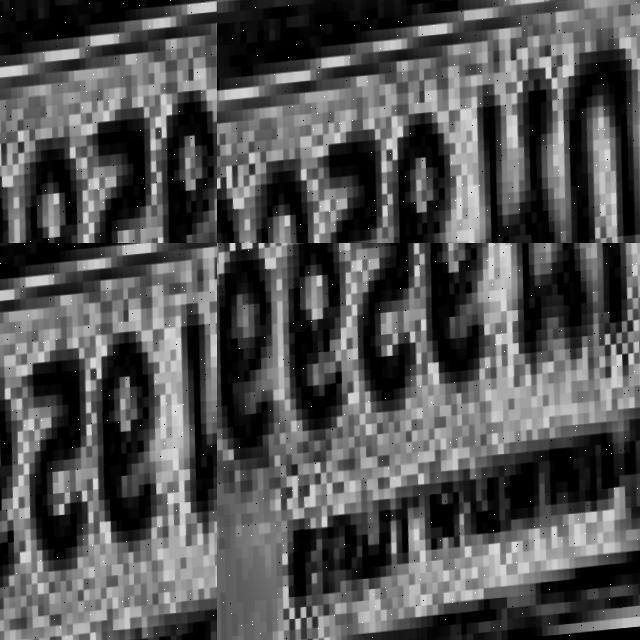license-plate: (217, 243, 640, 640), (217, 0, 640, 243)
